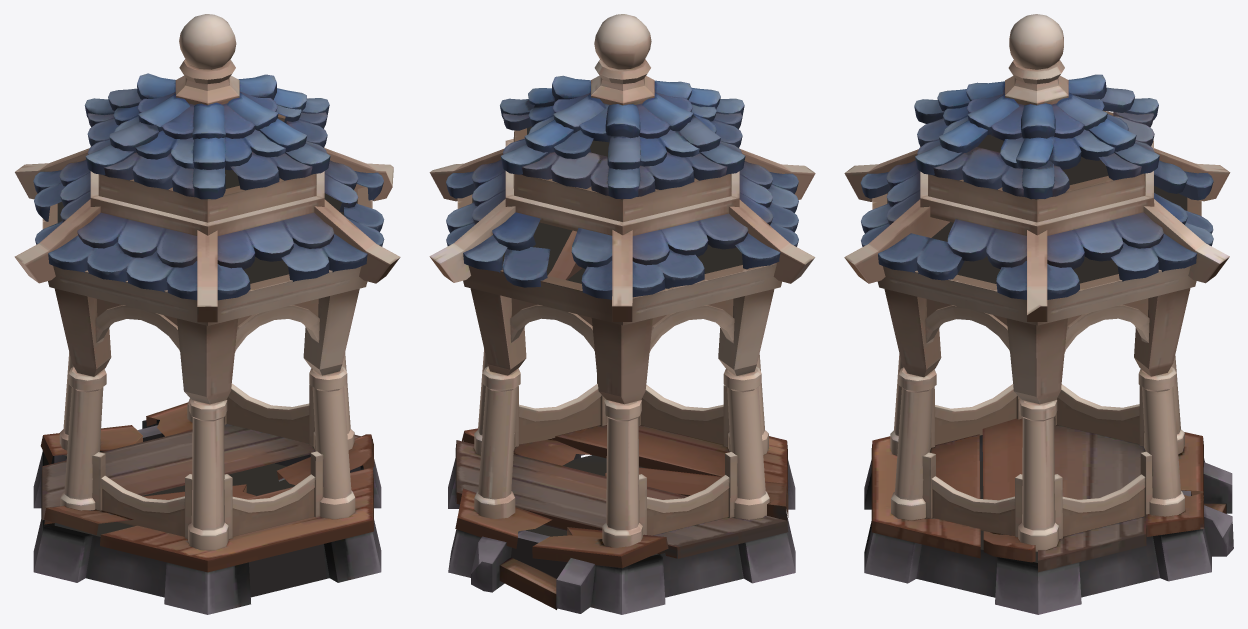
Rendered from PavilionFarmRundown.fbx.
3 renders of one model, left to right at view 1: azimuth 30°, elevation 25°; view 2: azimuth 150°, elevation 25°; view 3: azimuth 270°, elevation 25°, orthographic.
Parts seen in each view (by area): view 1: PavilionFarmRundown; view 2: PavilionFarmRundown; view 3: PavilionFarmRundown.
Part boxes in pixels (x1,y1,x2,y2): PavilionFarmRundown: (14, 14, 400, 614); PavilionFarmRundown: (429, 14, 815, 614); PavilionFarmRundown: (844, 14, 1233, 614).
Bounding box in the file's own units: 2.82 × 3.71 × 2.53.
